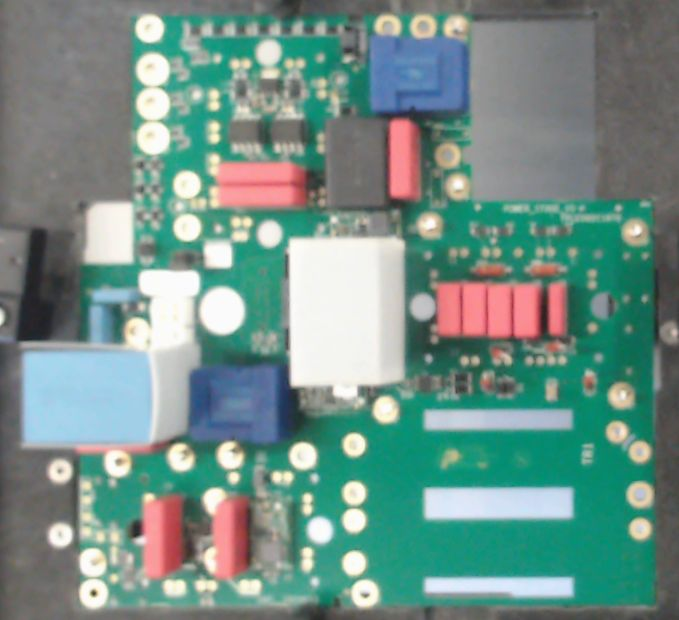comp1: (369, 33, 471, 116), (189, 365, 293, 444)
comp2: (143, 497, 183, 579), (215, 493, 249, 576), (389, 118, 422, 201), (217, 184, 308, 209), (217, 162, 307, 186), (513, 279, 543, 340), (487, 282, 515, 342), (461, 281, 487, 340), (435, 280, 461, 338), (547, 280, 571, 341)
comp3: (324, 116, 391, 208)
comp4: (17, 340, 201, 447), (289, 236, 405, 387)
